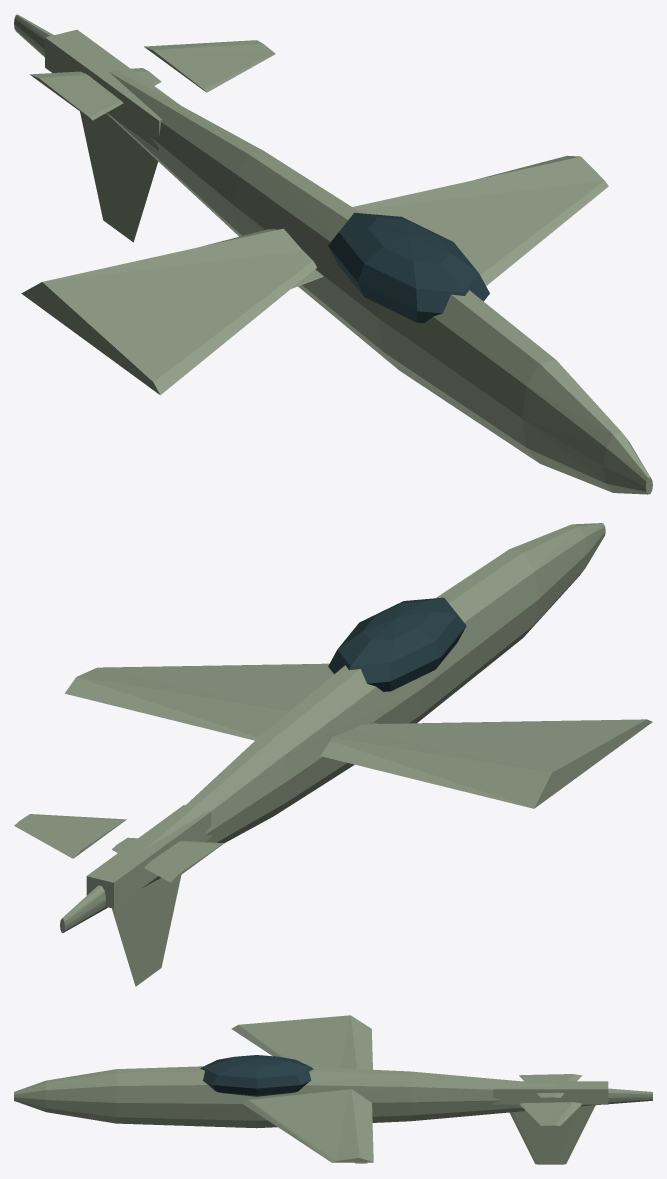
The model's file is jaguar.glb.
3 renders of one model, top to bottom at view 1: azimuth 30°, elevation 25°; view 2: azimuth 150°, elevation 25°; view 3: azimuth 270°, elevation 25°, orthographic. The views are drawn at different scales.
Visible parts, largest first — view 1: Fuselage, Wing_L, Wing_R, Cockpit, Rudder, TailBoom, Elevator_R, Elevator_L; view 2: Fuselage, Wing_L, Wing_R, Cockpit, Rudder, TailBoom, Elevator_R, Elevator_L; view 3: Fuselage, Wing_R, Wing_L, Cockpit, Rudder, TailBoom, Elevator_R, Elevator_L.
Part boxes in pixels (box(x1,y1,x2,y2)): Fuselage: box(14, 14, 652, 494); Wing_L: box(21, 228, 316, 395); Wing_R: box(352, 155, 608, 285); Cockpit: box(328, 212, 489, 323); Rudder: box(80, 111, 158, 242); TailBoom: box(45, 29, 180, 150); Elevator_R: box(144, 40, 275, 92); Elevator_L: box(30, 68, 161, 120); Fuselage: box(60, 523, 605, 932); Wing_L: box(320, 719, 652, 808); Wing_R: box(65, 663, 333, 740); Cockpit: box(328, 597, 466, 691); Rudder: box(111, 875, 181, 986); TailBoom: box(86, 805, 211, 908); Elevator_R: box(14, 814, 126, 858); Elevator_L: box(112, 837, 223, 882); Fuselage: box(14, 1066, 652, 1128); Wing_R: box(243, 1089, 373, 1162); Wing_L: box(231, 1015, 372, 1069); Cockpit: box(200, 1055, 313, 1096); Rudder: box(509, 1105, 595, 1164); TailBoom: box(493, 1081, 608, 1104); Elevator_R: box(519, 1102, 582, 1125); Elevator_L: box(519, 1074, 582, 1097).
Bounding box in the file's own units: 8.35 × 3.04 × 16.7.
